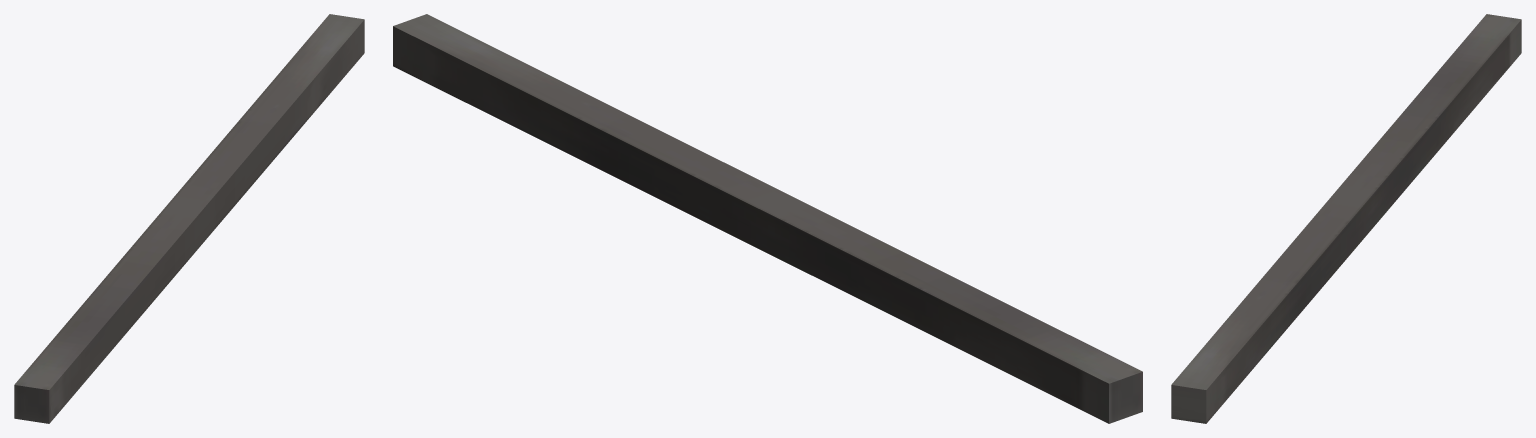
Rendered from base__rear_brace_0.glb.
3 views of the same model, side by side, from view 1: azimuth 90°, elevation 25°; view 2: azimuth 150°, elevation 25°; view 3: azimuth 270°, elevation 25° (orthographic). The views are drawn at different scales.
Visible parts, largest first — view 1: world; view 2: world; view 3: world.
Boxes of the visible parts, left/top/right/bottom form: world: left=14, top=14, right=364, bottom=423; world: left=393, top=14, right=1142, bottom=423; world: left=1171, top=14, right=1521, bottom=423.
Bounding box in the file's own units: 0.7637 × 0.032 × 0.3007.
Materials: 1 (1 with a texture image).
